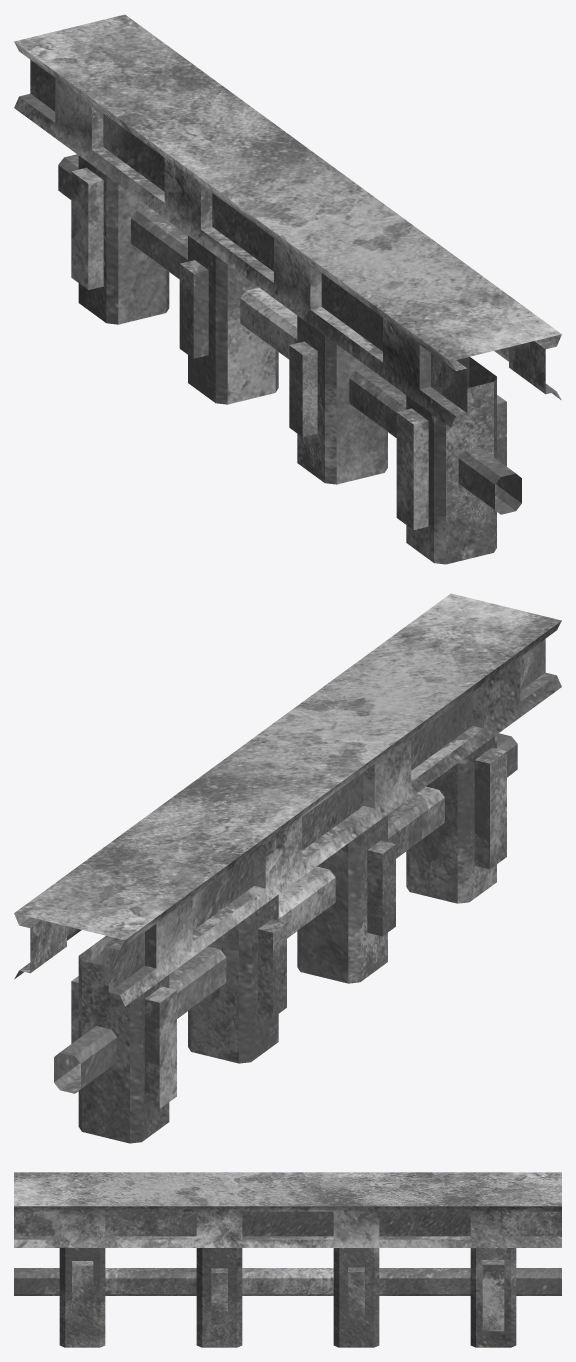
File: sm_fence_stone.fbx
3 views of the same model, one above another, from view 1: azimuth 30°, elevation 25°; view 2: azimuth 150°, elevation 25°; view 3: azimuth 270°, elevation 25° (orthographic). The views are drawn at different scales.
Visible parts, largest first — view 1: sm_fence_stone; view 2: sm_fence_stone; view 3: sm_fence_stone.
Part boxes in pixels (x1,y1,x2,y2): sm_fence_stone: (14, 14, 561, 564); sm_fence_stone: (14, 593, 561, 1143); sm_fence_stone: (14, 1172, 561, 1347).
Size of the model in its own units: 1.47 by 3 by 10.
